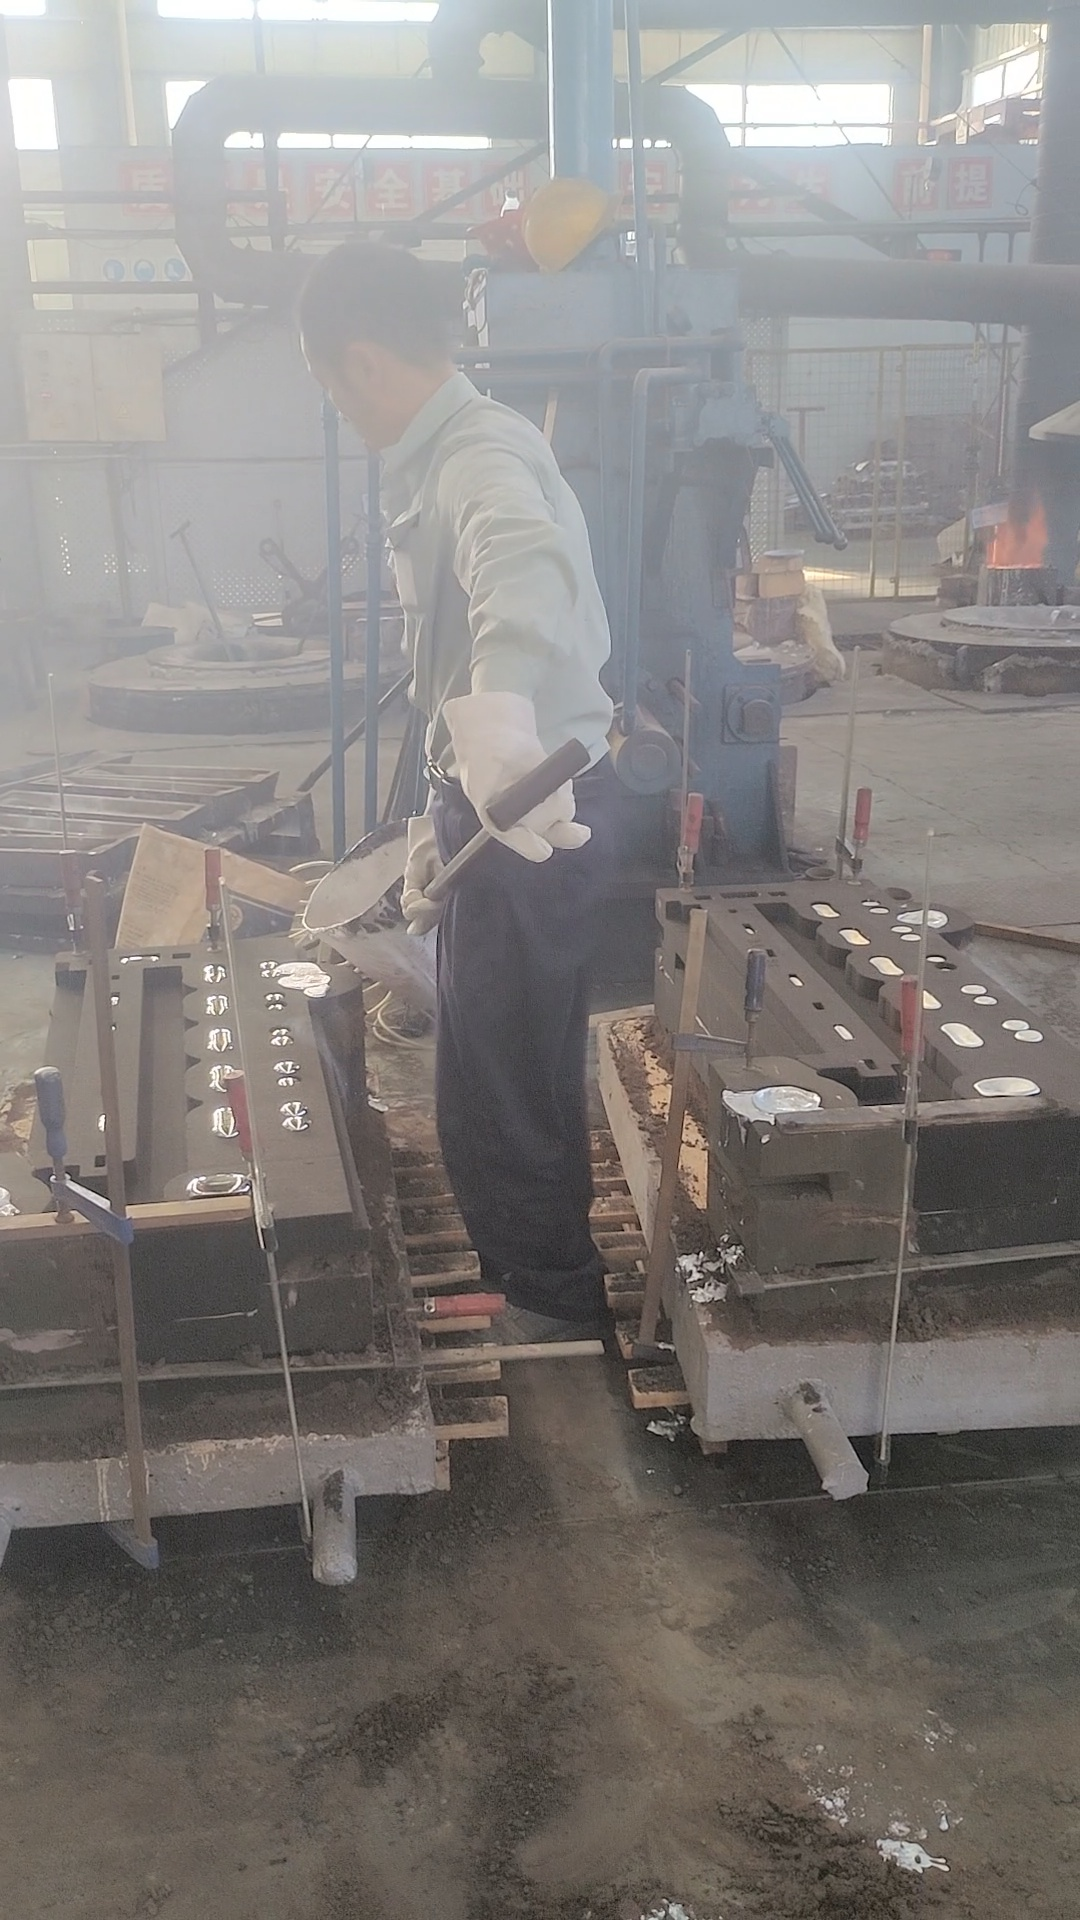pouring hole: (752, 1081, 822, 1116), (897, 905, 949, 930), (276, 969, 335, 988), (1, 1185, 18, 1211), (807, 865, 836, 880), (885, 885, 910, 901), (789, 869, 804, 880)
